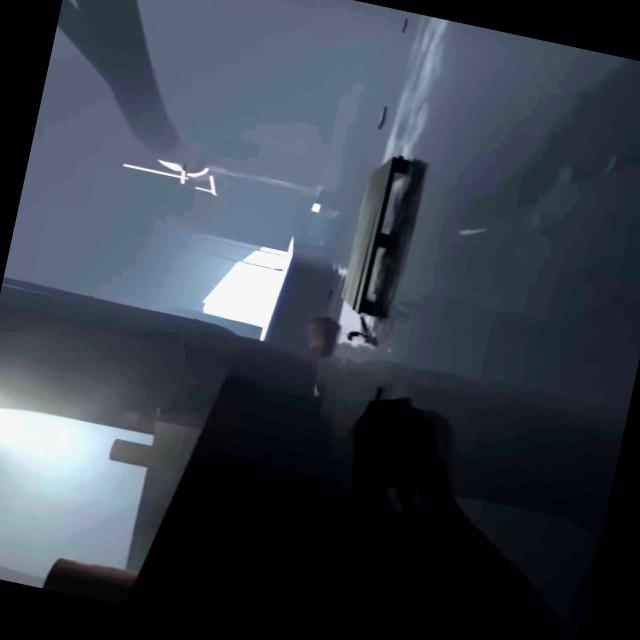boy: (344, 310, 382, 346)
